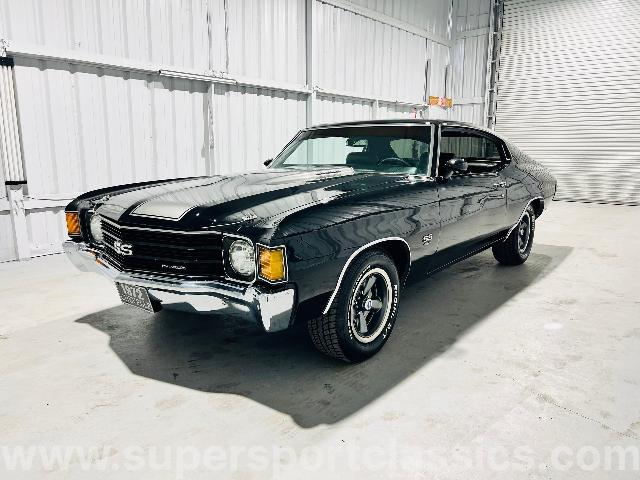chevelle-1972: (63, 119, 557, 362)
